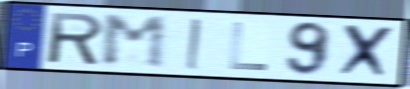9: (285, 19, 334, 79)
I: (184, 17, 203, 72)
L: (227, 20, 270, 73)
M: (99, 14, 168, 71)
R: (48, 11, 107, 68)
X: (334, 22, 397, 81)
